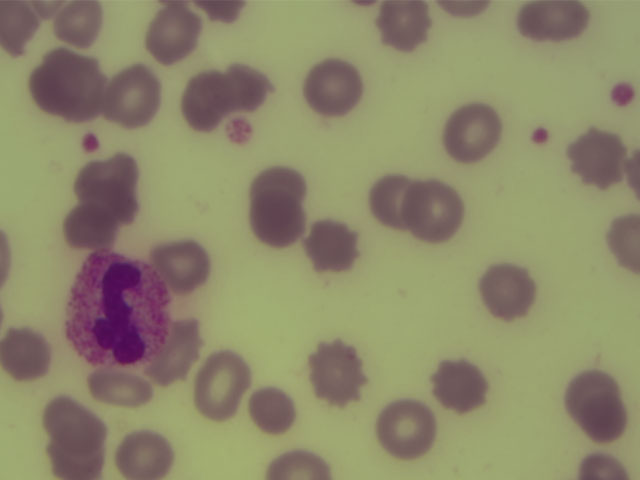Platelets: (612, 82, 634, 112), (229, 119, 252, 147), (84, 134, 103, 156), (534, 128, 548, 146)
RBC: (307, 335, 366, 407), (403, 175, 463, 243), (193, 351, 252, 418), (41, 393, 109, 449), (247, 188, 305, 253), (557, 367, 619, 426), (447, 104, 502, 168), (434, 356, 492, 415), (574, 125, 625, 192), (7, 324, 58, 387), (484, 262, 537, 322), (383, 398, 434, 459), (519, 1, 592, 43), (118, 429, 177, 480), (114, 63, 159, 128), (68, 55, 111, 123), (308, 216, 355, 278), (40, 43, 79, 117), (247, 383, 298, 438), (311, 61, 362, 115), (155, 6, 202, 64), (583, 387, 627, 448), (185, 71, 225, 136), (381, 2, 431, 53), (161, 243, 211, 293), (45, 441, 107, 480), (227, 62, 272, 115), (90, 371, 157, 406), (605, 212, 640, 275), (81, 183, 142, 219), (1, 2, 37, 59), (267, 450, 335, 480), (77, 202, 118, 251), (374, 174, 408, 230), (65, 3, 108, 47), (70, 153, 142, 179), (246, 167, 316, 187), (582, 457, 625, 480), (204, 1, 245, 24), (440, 1, 495, 17), (624, 149, 638, 206), (1, 233, 10, 282), (38, 2, 59, 19), (352, 1, 379, 8)
WBC: (68, 251, 170, 378)
